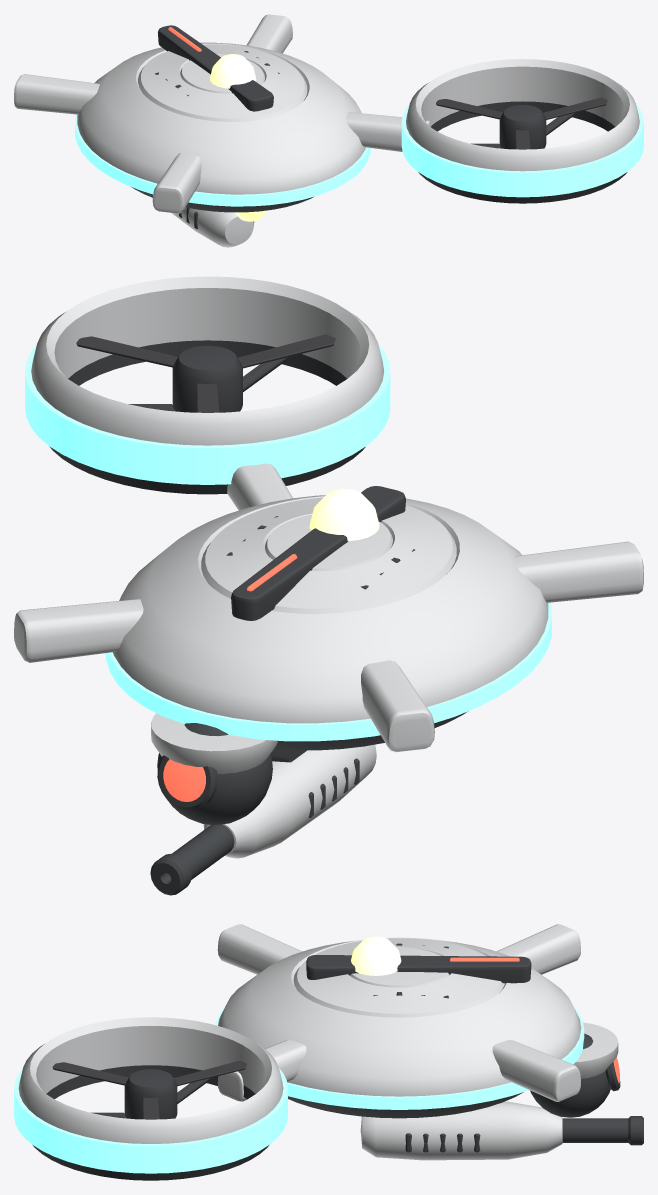
The model's file is drone.glb.
The picture shows the model from 3 angles, top to bottom: view 1: azimuth 30°, elevation 25°; view 2: azimuth 150°, elevation 25°; view 3: azimuth 270°, elevation 25°; orthographic projection. The views are drawn at different scales.
Parts seen in each view (by area): view 1: core, rotor, gun, blades; view 2: core, rotor, gun, sensor, blades; view 3: core, rotor, gun, sensor, blades.
Part boxes in pixels (x1,y1,x2,y2): core: (14,14,431,221); rotor: (401,59,643,203); gun: (171,207,254,247); blades: (436,97,607,149); core: (14,463,643,752); rotor: (25,276,390,494); gun: (150,744,376,895); sensor: (151,713,277,824); blades: (76,334,335,412); core: (215,924,584,1118); rotor: (14,1017,287,1180); gun: (360,1101,643,1160); sensor: (530,1022,620,1117); blades: (52,1061,246,1119).
Bounding box in the file's own units: 0.7305 × 0.3114 × 0.8115.
